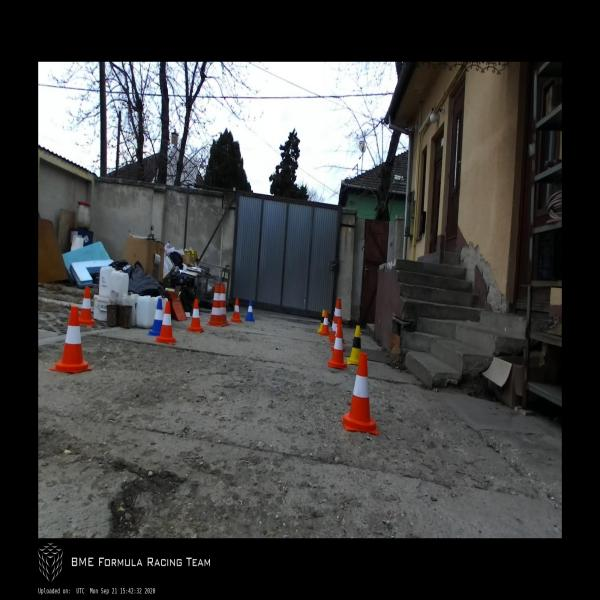blue_cone: (147, 298, 164, 336), (245, 300, 255, 321)
large_orange_cone: (206, 282, 224, 327), (328, 298, 345, 344), (220, 283, 229, 326)
orange_cone: (341, 352, 378, 435), (49, 306, 93, 373), (154, 301, 178, 344), (328, 325, 346, 370), (78, 286, 95, 326), (187, 298, 204, 333), (331, 317, 346, 352), (230, 297, 241, 322), (320, 311, 330, 335)
yellow_cone: (346, 325, 362, 365), (318, 310, 326, 332)
